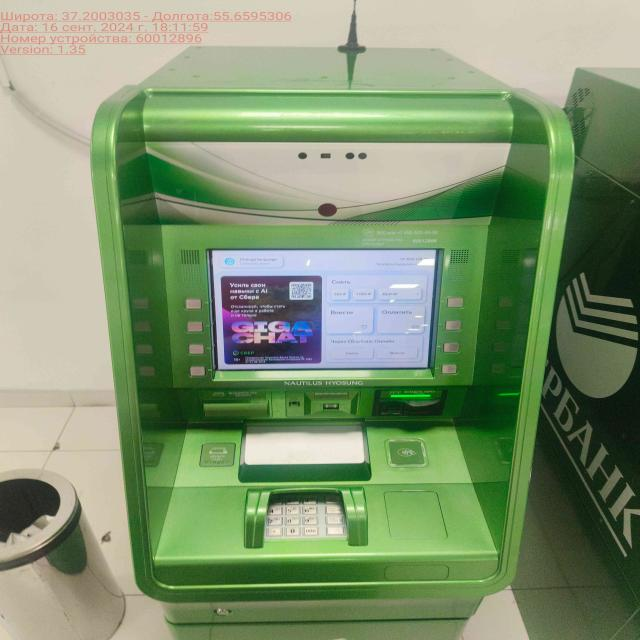bank: (93, 47, 573, 640), (561, 66, 640, 640)
